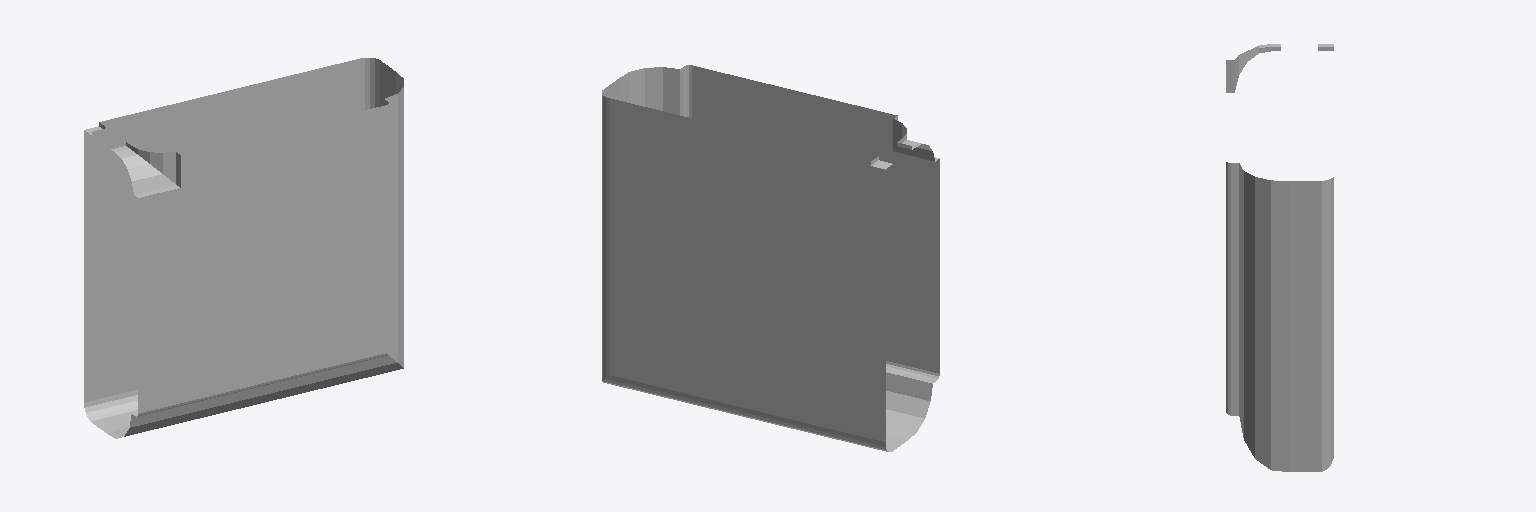
Rendered from original-36.obj.
3 renders of one model, left to right at view 1: azimuth 30°, elevation 25°; view 2: azimuth 150°, elevation 25°; view 3: azimuth 270°, elevation 25°, orthographic.
Parts seen in each view (by area): view 1: DF_12_BR1/DF_12_BR/mesh24/mesh24-geometry#mesh24-geometry; view 2: DF_12_BR1/DF_12_BR/mesh24/mesh24-geometry#mesh24-geometry; view 3: DF_12_BR1/DF_12_BR/mesh24/mesh24-geometry#mesh24-geometry.
Part boxes in pixels (x1,y1,x2,y2): DF_12_BR1/DF_12_BR/mesh24/mesh24-geometry#mesh24-geometry: (84, 58, 403, 438); DF_12_BR1/DF_12_BR/mesh24/mesh24-geometry#mesh24-geometry: (602, 65, 939, 451); DF_12_BR1/DF_12_BR/mesh24/mesh24-geometry#mesh24-geometry: (1226, 44, 1333, 471).
Size of the model in its own units: 0.1004 by 0.0966 by 0.0327.